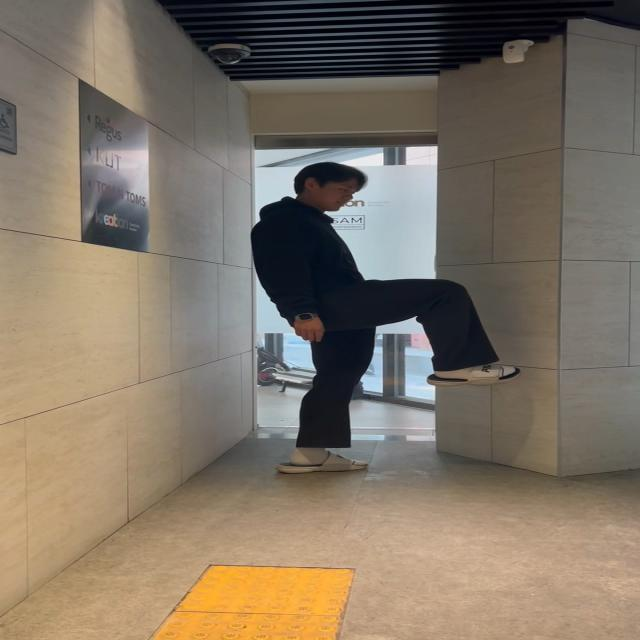knee: (344, 280, 519, 386)
